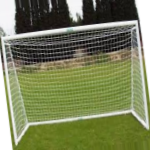goals: (1, 19, 150, 143)
